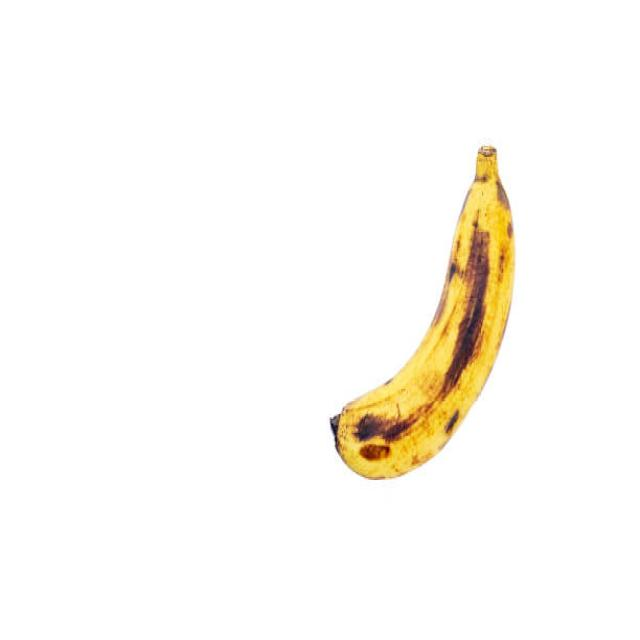overripe: (324, 141, 521, 485)
